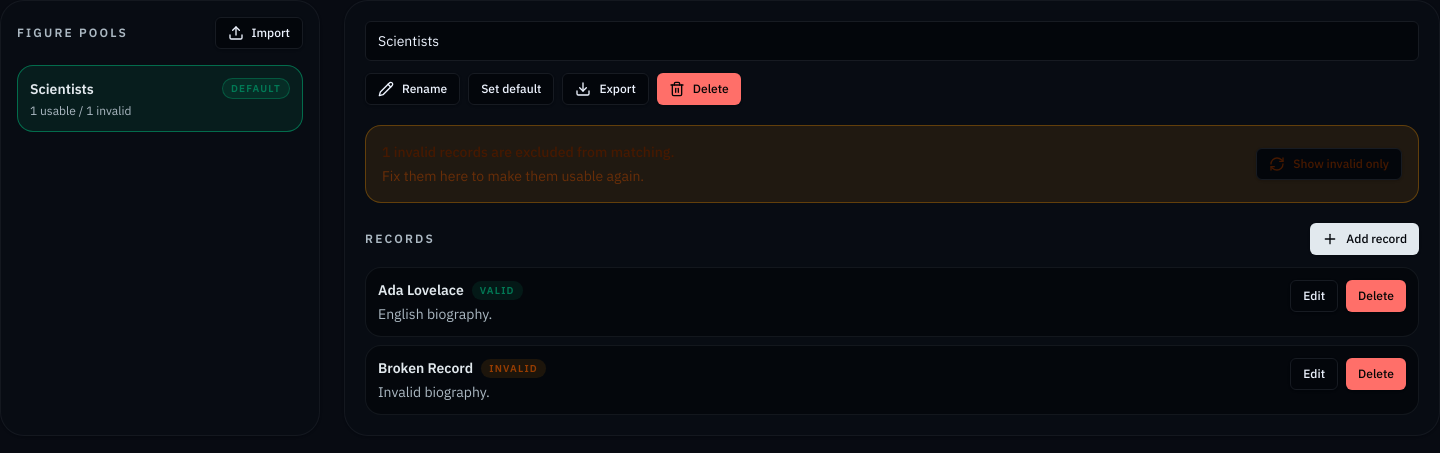
Test: FigurePoolManager › filters the record list down to invalid entries when requested
Expected: the text "1 invalid records are excluded from matching." is shown, [382,142,674,162]
Click the button "Show invalid only": (1329, 164) [1256,148,1402,180]
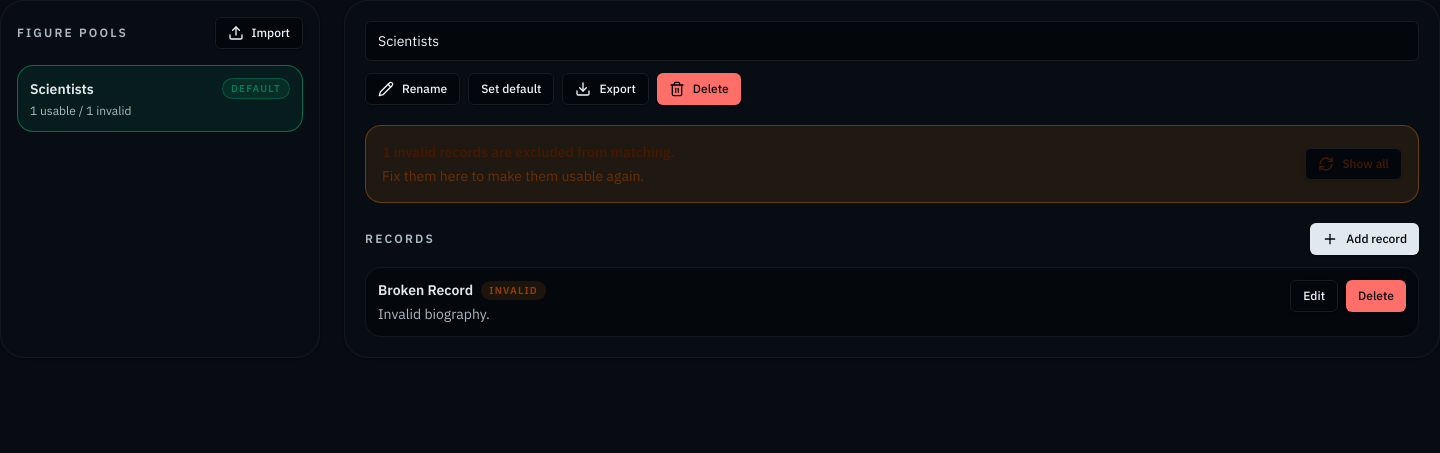
Expected: the text "Broken Record" is shown, [378,280,473,300]
Expected: the text "Ada Lovelace" is gone
